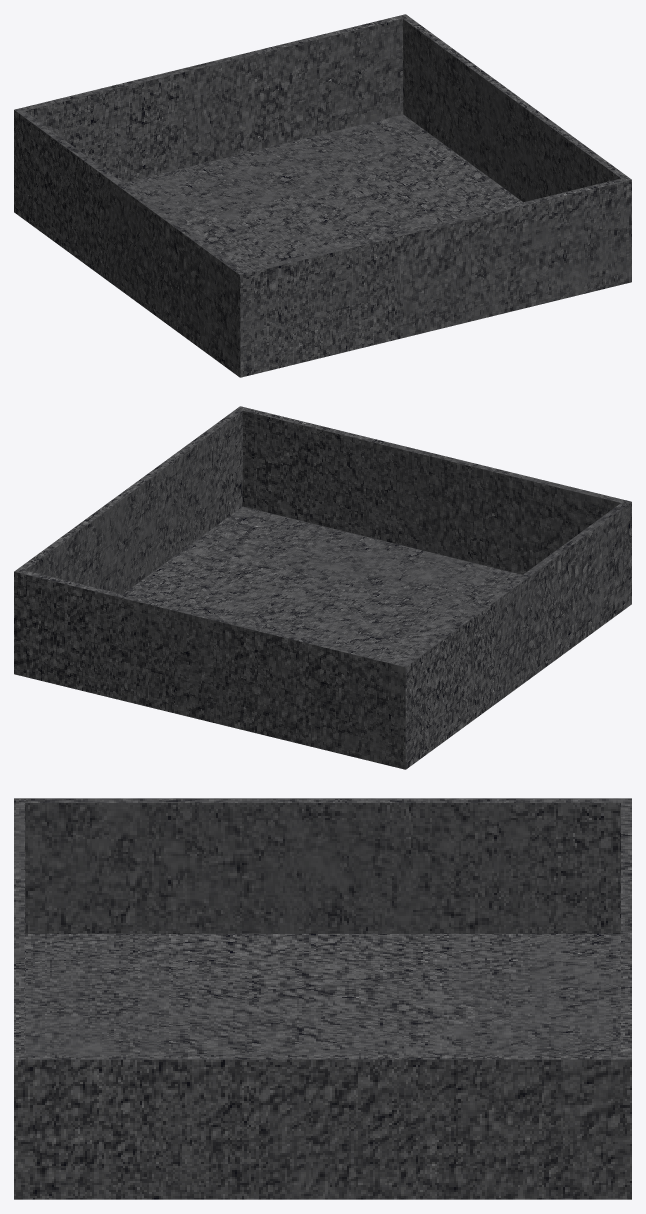
The model's file is map.glb.
3 views of the same model, one above another, from view 1: azimuth 30°, elevation 25°; view 2: azimuth 150°, elevation 25°; view 3: azimuth 270°, elevation 25° (orthographic). The views are drawn at different scales.
Visible parts, largest first — view 1: Cube; view 2: Cube; view 3: Cube.
Boxes of the visible parts, x1=… form: Cube: x1=14, y1=14, x2=631, y2=377; Cube: x1=14, y1=406, x2=631, y2=769; Cube: x1=14, y1=798, x2=631, y2=1199.
Size of the model in its own units: 200 by 50 by 200.
1 material, 1 textured.
